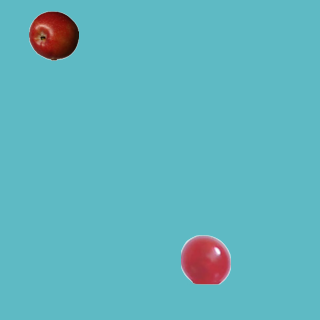Apple Braeburn: (28, 10, 78, 60)
Redcurrant: (180, 234, 230, 284)
